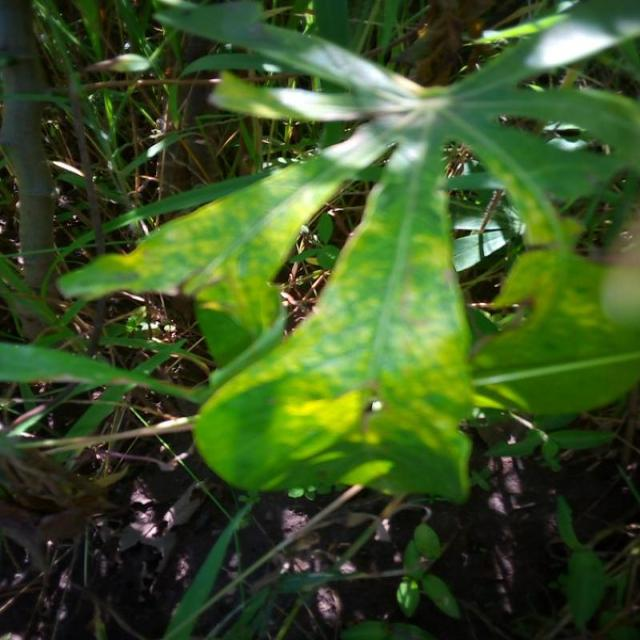cassava leaf: (54, 0, 638, 505), (191, 129, 477, 504)
